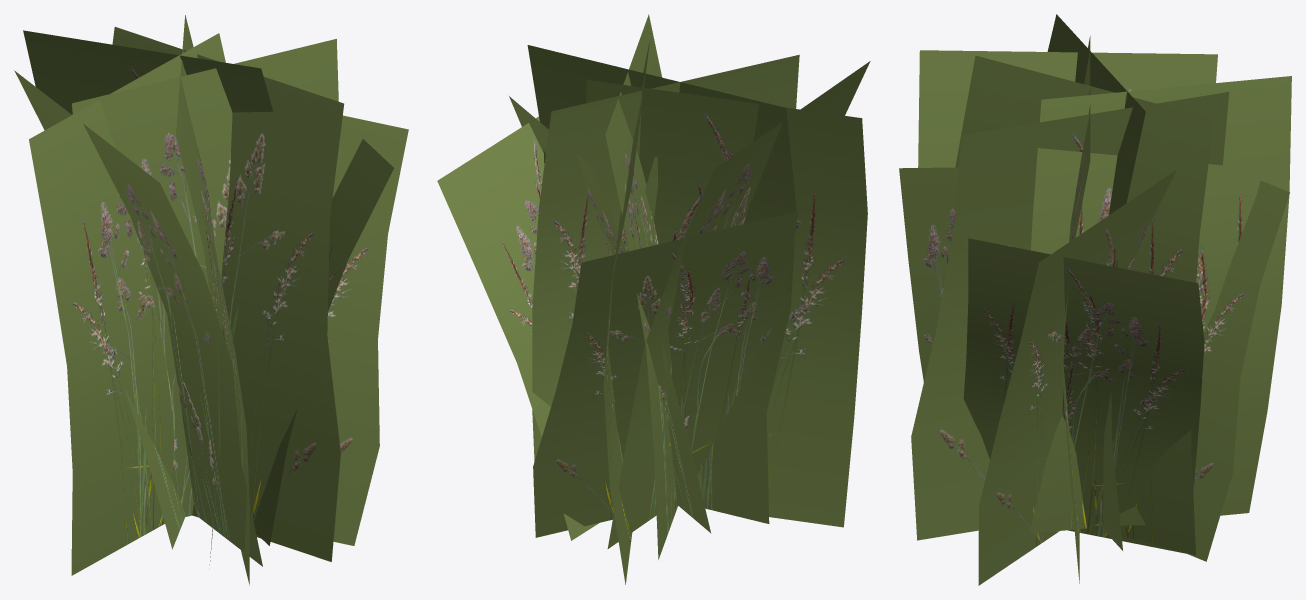
File: Grass_02.fbx
3 views of the same model, side by side, from view 1: azimuth 30°, elevation 25°; view 2: azimuth 150°, elevation 25°; view 3: azimuth 270°, elevation 25° (orthographic). The views are drawn at different scales.
Parts seen in each view (by area): view 1: Grass_02; view 2: Grass_02; view 3: Grass_02.
Part boxes in pixels (x1,y1,x2,y2): Grass_02: (14, 15, 408, 585); Grass_02: (437, 14, 870, 584); Grass_02: (899, 14, 1291, 585).
Size of the model in its own units: 89.03 by 108 by 83.75.
1 material, 1 textured.
